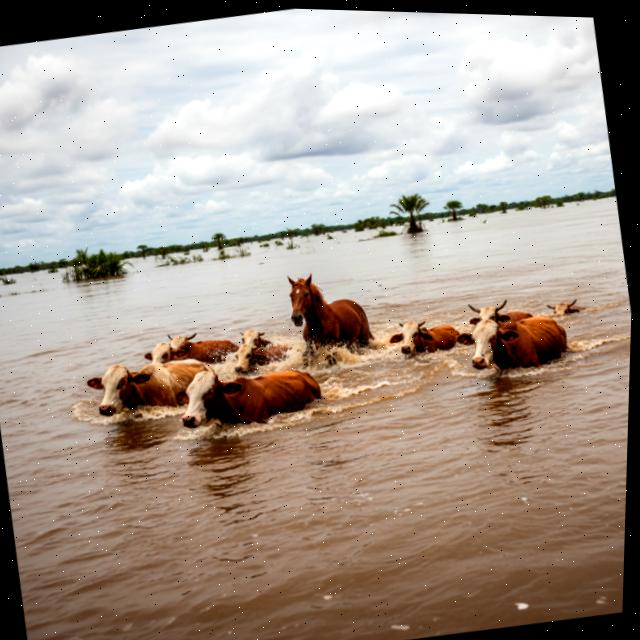cow: (158, 341, 338, 451), (446, 297, 583, 389), (74, 347, 222, 428), (383, 305, 472, 368), (456, 288, 548, 340), (159, 321, 243, 370), (139, 330, 222, 379), (223, 334, 298, 377), (534, 289, 597, 329), (232, 322, 281, 361)
horse: (274, 254, 385, 369)
